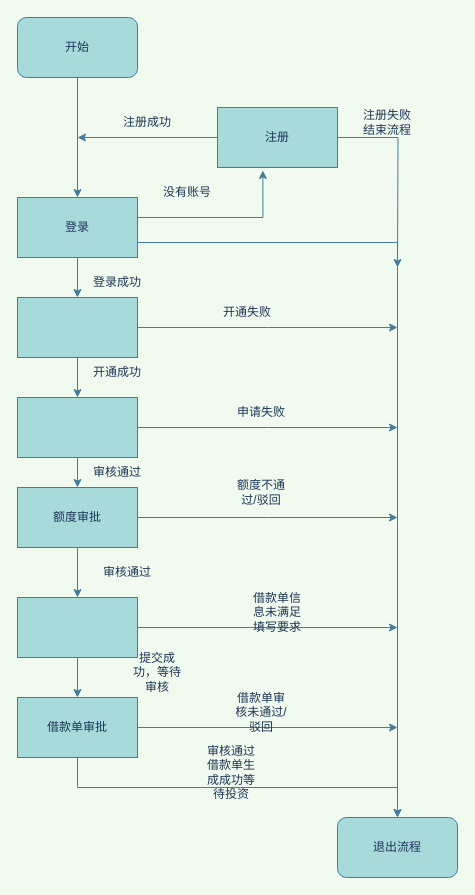
The diagram is 475 pixels wide and 895 high, and some of its shapes have lost their labels. Here are the shapes that lost their labels. From the top down, the box of each, then its label:
(16, 296, 138, 358): 开通资金托管账号
(16, 396, 138, 458): 申请额度
(16, 596, 138, 658): 提交借款单
